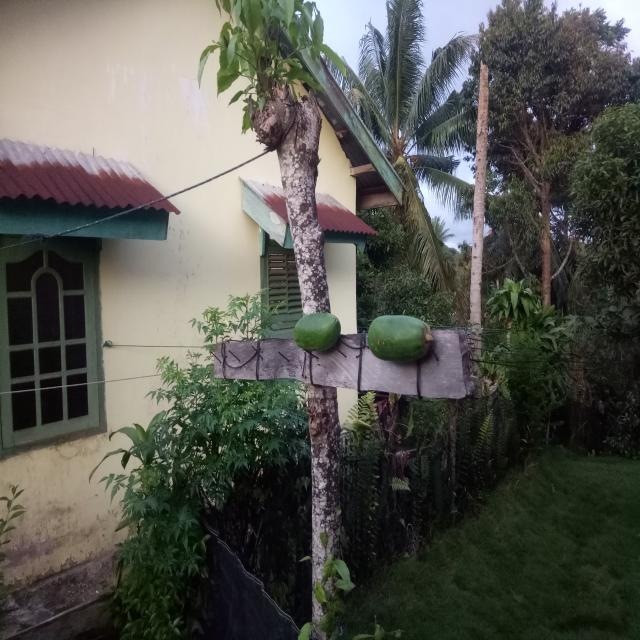Pepaya unrippen: (362, 310, 448, 366), (287, 308, 346, 352)
